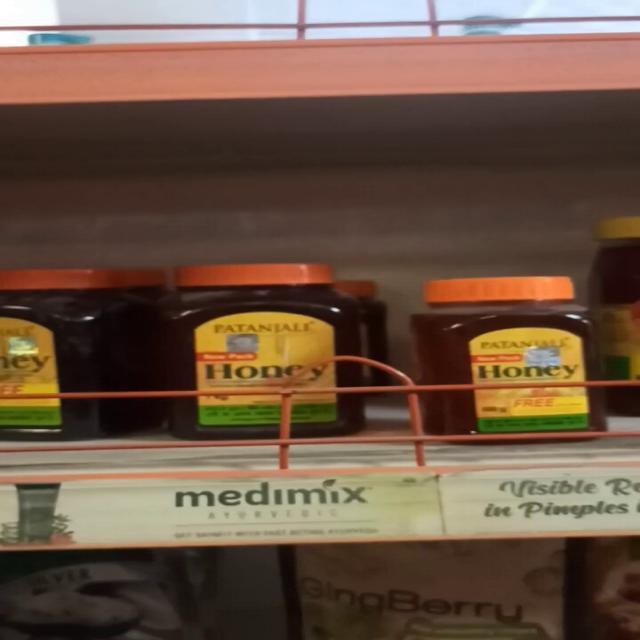Patanjali Honey: (163, 262, 364, 446), (406, 276, 620, 448)
